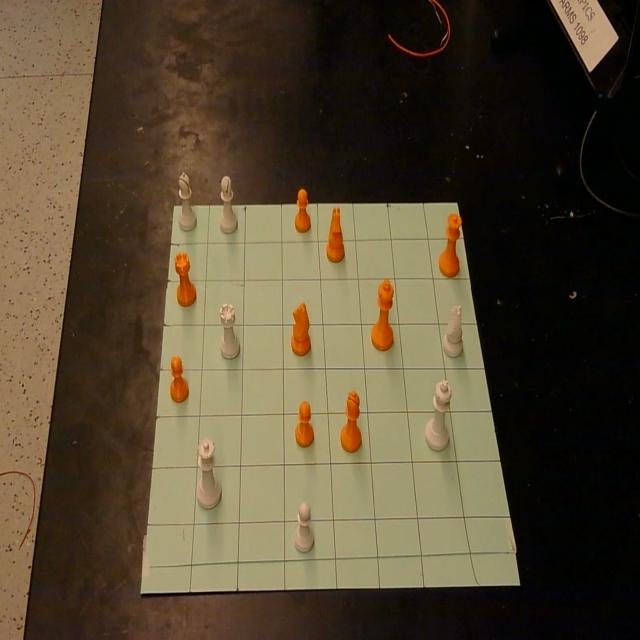orange_bishop: (340, 390, 362, 452)
orange_king: (371, 278, 395, 352)
orange_knight: (291, 301, 312, 357), (326, 206, 345, 261)
orange_pawn: (295, 400, 314, 448), (170, 355, 189, 403), (295, 187, 311, 233)
orange_queen: (438, 211, 462, 277)
orange_rook: (174, 250, 196, 305)
white_bishop: (177, 170, 197, 231), (220, 174, 238, 233)
white_king: (425, 378, 451, 451)
white_knight: (443, 304, 463, 358)
white_pawn: (294, 502, 314, 552)
white_queen: (196, 438, 221, 509)
white_rook: (218, 302, 240, 358)
